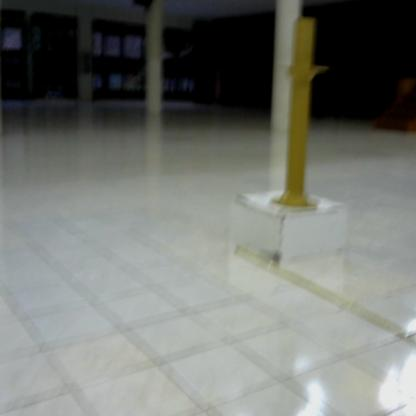pole: (269, 16, 336, 215)
